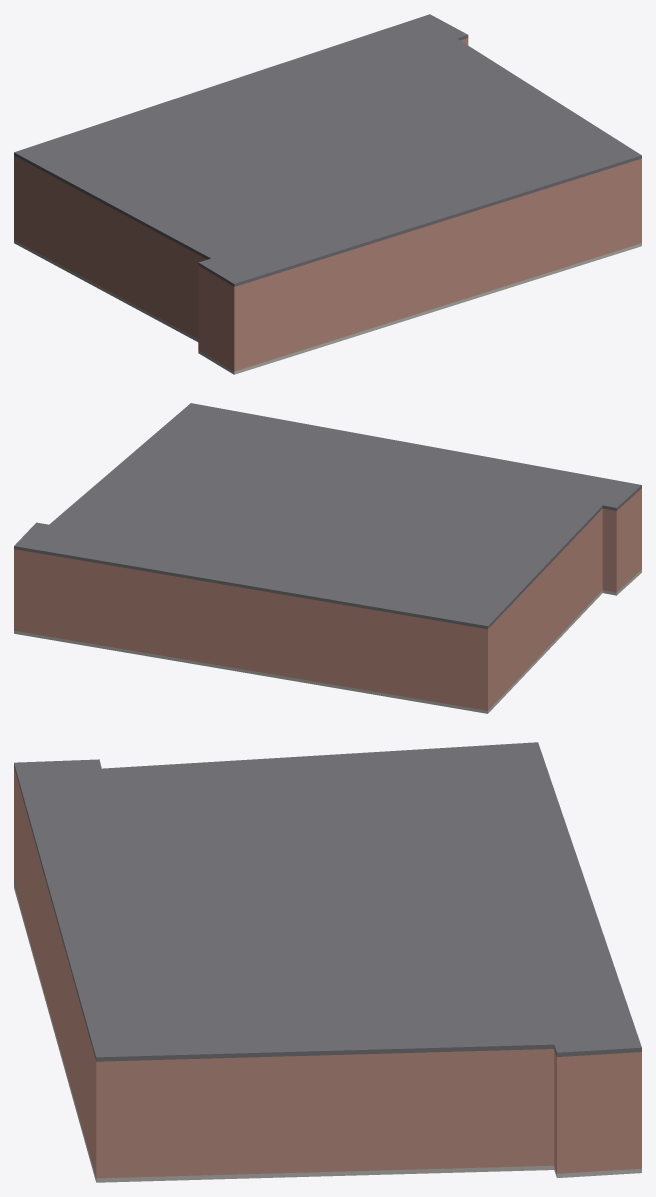
Rendered from cherry.glb.
3 views of the same model, one above another, from view 1: azimuth 30°, elevation 25°; view 2: azimuth 150°, elevation 25°; view 3: azimuth 270°, elevation 25° (orthographic). The views are drawn at different scales.
Parts seen in each view (by area): view 1: cherry_roof, cherry_walls, cherry_plinth; view 2: cherry_roof, cherry_walls, cherry_plinth; view 3: cherry_roof, cherry_walls, cherry_plinth.
Boxes of the visible parts, x1=… form: cherry_roof: x1=14, y1=14, x2=641, y2=286; cherry_walls: x1=14, y1=38, x2=641, y2=371; cherry_plinth: x1=14, y1=240, x2=641, y2=374; cherry_roof: x1=14, y1=403, x2=641, y2=629; cherry_walls: x1=14, y1=488, x2=641, y2=710; cherry_plinth: x1=14, y1=570, x2=641, y2=713; cherry_roof: x1=14, y1=742, x2=641, y2=1061; cherry_walls: x1=14, y1=768, x2=641, y2=1178; cherry_plinth: x1=14, y1=884, x2=641, y2=1182.
Bounding box in the file's own units: 46.33 × 8.59 × 39.02.
